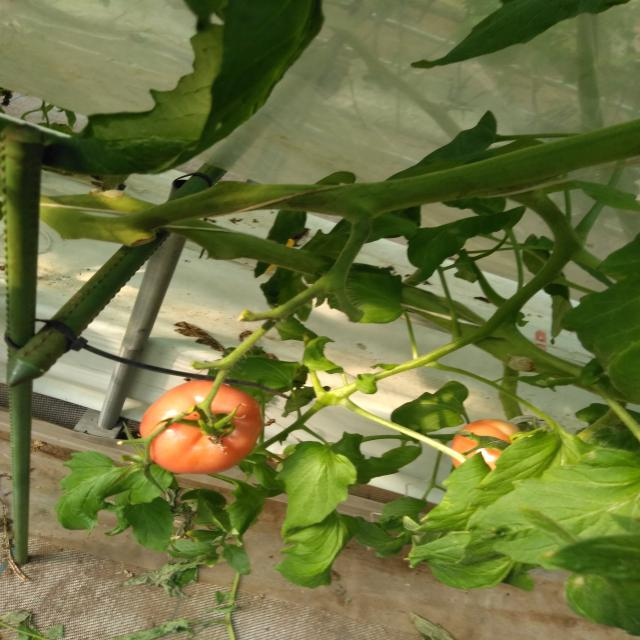n-half-riped: (140, 380, 262, 474), (452, 418, 526, 474)
